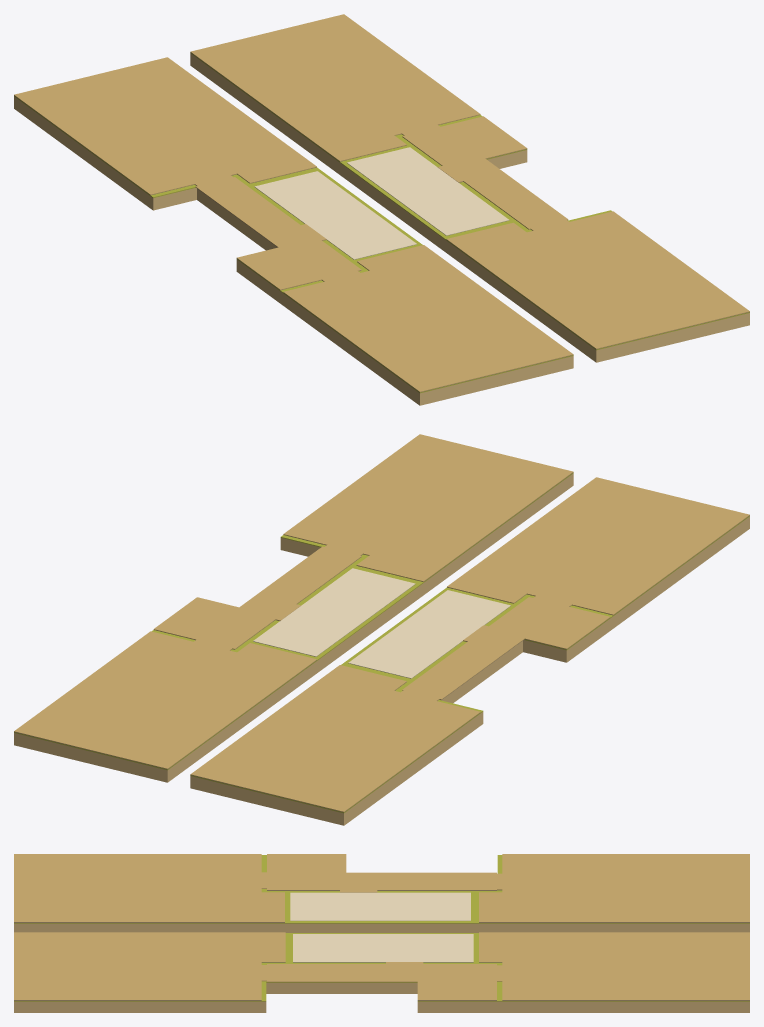
File: Duplex_Level_2_IfcSlab.dae
3 views of the same model, one above another, from view 1: azimuth 30°, elevation 25°; view 2: azimuth 150°, elevation 25°; view 3: azimuth 270°, elevation 25° (orthographic). The views are drawn at different scales.
Visible parts, largest first — view 1: 2OBrcmyk58NupXoVOHUtBP, 2OBrcmyk58NupXoVOHUt8F, 2OBrcmyk58NupXoVOHUtC0, 2OBrcmyk58NupXoVOHUtDX, 1hOSvn6df7F8_7GcBWlRrM, 1hOSvn6df7F8_7GcBWlRqU, 2OBrcmyk58NupXoVOHUt8s, 2OBrcmyk58NupXoVOHUt5W, 2OBrcmyk58NupXoVOHUt0F, 2OBrcmyk58NupXoVOHUt2f; view 2: 2OBrcmyk58NupXoVOHUtDX, 2OBrcmyk58NupXoVOHUtC0, 2OBrcmyk58NupXoVOHUtBP, 2OBrcmyk58NupXoVOHUt8F, 1hOSvn6df7F8_7GcBWlRrM, 1hOSvn6df7F8_7GcBWlRqU, 2OBrcmyk58NupXoVOHUt8s, 2OBrcmyk58NupXoVOHUt5W, 2OBrcmyk58NupXoVOHUt0F, 2OBrcmyk58NupXoVOHUt2f; view 3: 2OBrcmyk58NupXoVOHUtBP, 2OBrcmyk58NupXoVOHUt8F, 2OBrcmyk58NupXoVOHUtDX, 2OBrcmyk58NupXoVOHUtC0, 1hOSvn6df7F8_7GcBWlRrM, 1hOSvn6df7F8_7GcBWlRqU, 2OBrcmyk58NupXoVOHUt8s, 2OBrcmyk58NupXoVOHUt5W, 2OBrcmyk58NupXoVOHUt2f, 2OBrcmyk58NupXoVOHUt0F.
Part boxes in pixels (bbox=[...]): 2OBrcmyk58NupXoVOHUtBP: bbox=[446, 211, 749, 349]; 2OBrcmyk58NupXoVOHUt8F: bbox=[283, 245, 573, 392]; 2OBrcmyk58NupXoVOHUtC0: bbox=[14, 57, 316, 195]; 2OBrcmyk58NupXoVOHUtDX: bbox=[190, 14, 480, 161]; 1hOSvn6df7F8_7GcBWlRrM: bbox=[190, 52, 749, 362]; 1hOSvn6df7F8_7GcBWlRqU: bbox=[14, 96, 573, 405]; 2OBrcmyk58NupXoVOHUt8s: bbox=[194, 175, 361, 290]; 2OBrcmyk58NupXoVOHUt5W: bbox=[401, 116, 568, 230]; 2OBrcmyk58NupXoVOHUt0F: bbox=[347, 147, 509, 235]; 2OBrcmyk58NupXoVOHUt2f: bbox=[254, 171, 416, 259]; 2OBrcmyk58NupXoVOHUtDX: bbox=[14, 631, 316, 769]; 2OBrcmyk58NupXoVOHUtC0: bbox=[190, 665, 480, 812]; 2OBrcmyk58NupXoVOHUtBP: bbox=[283, 434, 573, 581]; 2OBrcmyk58NupXoVOHUt8F: bbox=[447, 477, 749, 615]; 1hOSvn6df7F8_7GcBWlRrM: bbox=[14, 472, 573, 782]; 1hOSvn6df7F8_7GcBWlRqU: bbox=[190, 516, 749, 825]; 2OBrcmyk58NupXoVOHUt8s: bbox=[401, 596, 610, 700]; 2OBrcmyk58NupXoVOHUt5W: bbox=[153, 545, 362, 650]; 2OBrcmyk58NupXoVOHUt0F: bbox=[253, 568, 415, 656]; 2OBrcmyk58NupXoVOHUt2f: bbox=[348, 590, 510, 678]; 2OBrcmyk58NupXoVOHUtBP: bbox=[14, 932, 285, 1000]; 2OBrcmyk58NupXoVOHUt8F: bbox=[14, 854, 284, 922]; 2OBrcmyk58NupXoVOHUtDX: bbox=[479, 932, 749, 1000]; 2OBrcmyk58NupXoVOHUtC0: bbox=[479, 854, 749, 922]; 1hOSvn6df7F8_7GcBWlRrM: bbox=[14, 933, 749, 1012]; 1hOSvn6df7F8_7GcBWlRqU: bbox=[14, 855, 749, 932]; 2OBrcmyk58NupXoVOHUt8s: bbox=[261, 854, 502, 892]; 2OBrcmyk58NupXoVOHUt5W: bbox=[261, 962, 502, 1000]; 2OBrcmyk58NupXoVOHUt2f: bbox=[290, 892, 470, 920]; 2OBrcmyk58NupXoVOHUt0F: bbox=[293, 934, 473, 962].
Size of the model in its own units: 7.97 by 16.97 by 0.324.
